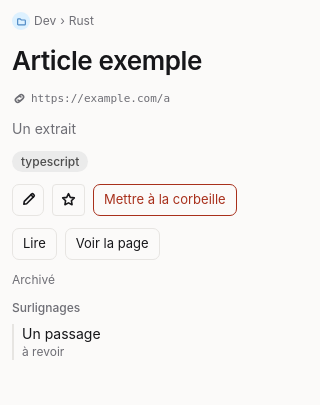
Test case: DetailPane › échec de mise à la corbeille : erreur inline, item toujours affiché
The image size is (320, 405).
Check: the heading "Article exemple" is shown, box [12,45,202,76]
Click the button "Mettre à la corbeille": (165, 200) [93,184,237,216]
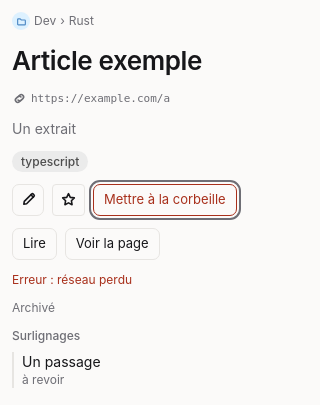
Check: the heading "Article exemple" is shown, box [12,45,202,76]
Check: the message shows "réseau perdu", box [12,272,132,287]
